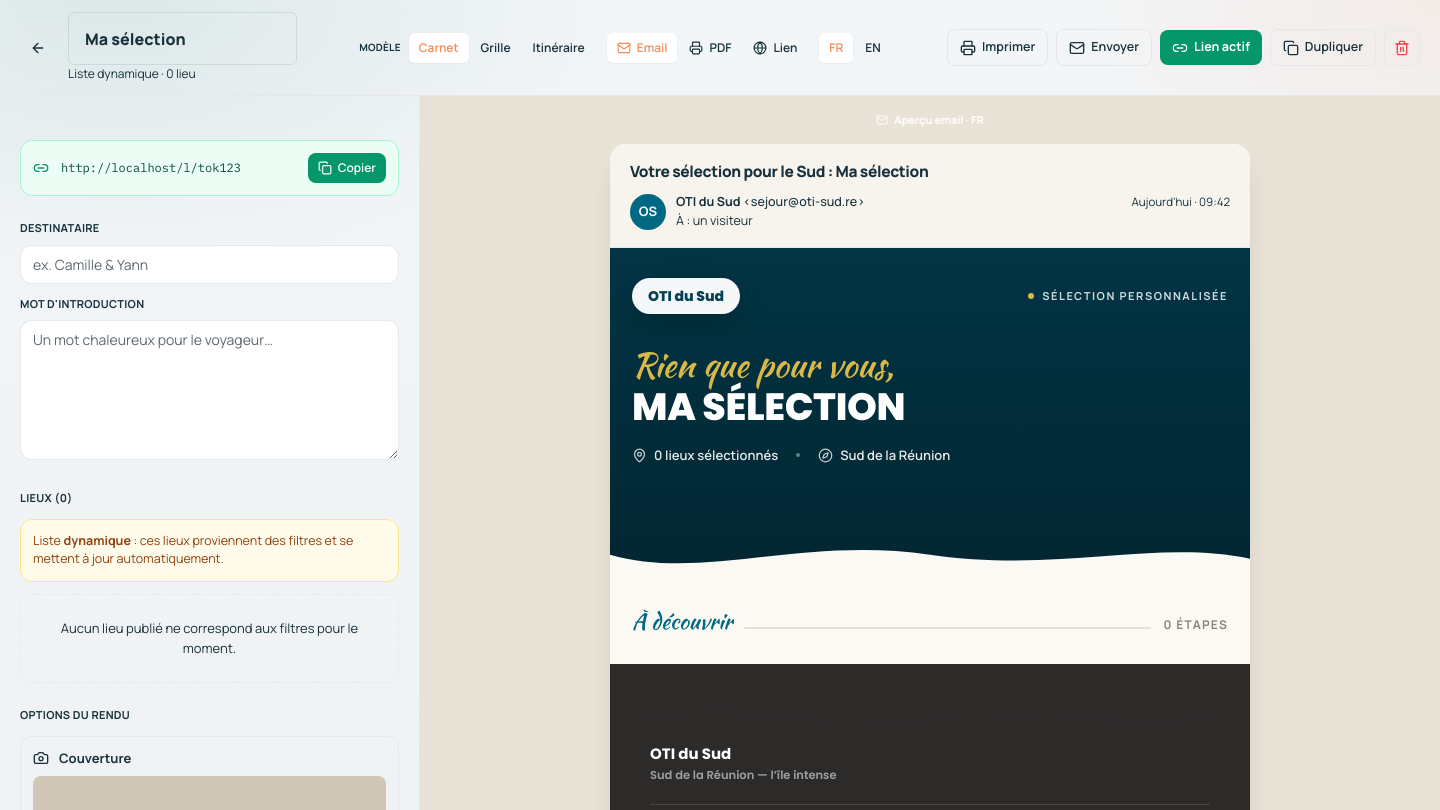
Test: ListComposeView — modal « Partager par lien » › désactive le lien via le bouton explicite du modal
Click the button "Lien actif" at (1211, 48), box [1160,30,1262,65]
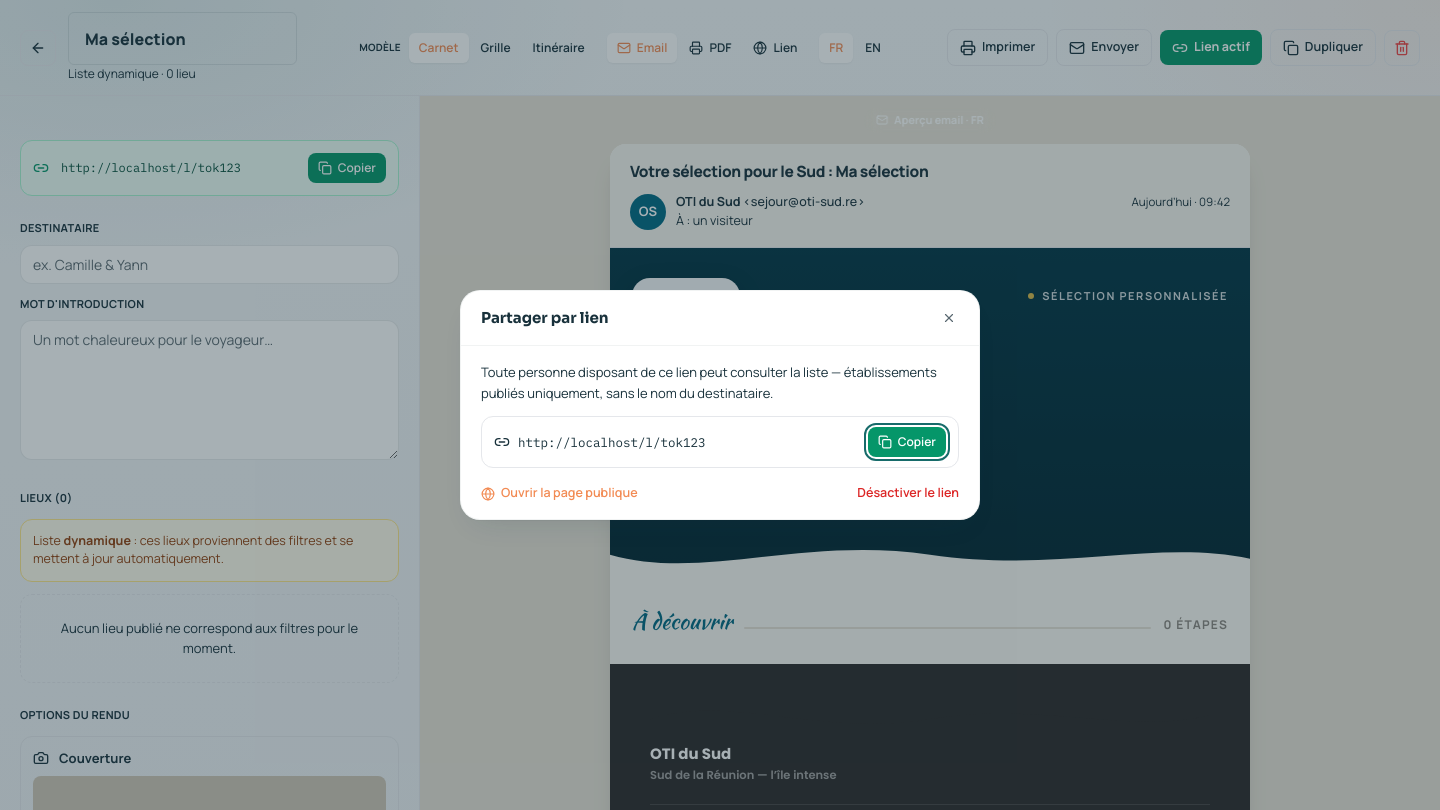
Click the button "Désactiver le lien" at (908, 494), box [857,484,959,503]
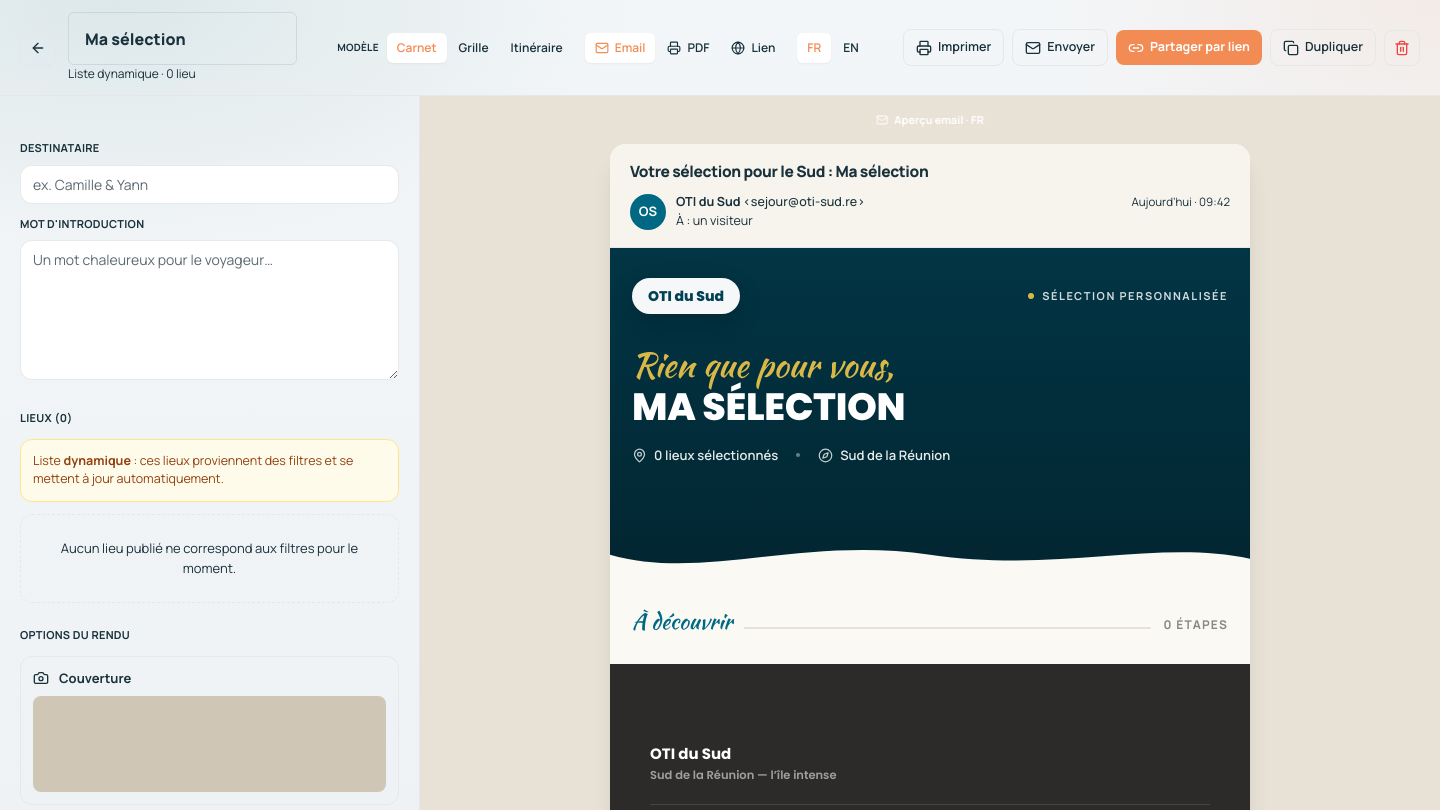
Now the dialog is gone
